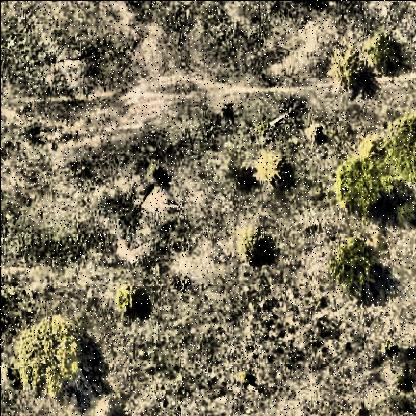tree-top: (12, 319, 90, 397), (339, 152, 389, 218), (330, 237, 376, 292), (389, 103, 416, 191), (332, 52, 368, 92), (372, 38, 406, 76), (242, 233, 278, 267), (260, 152, 294, 183), (118, 285, 153, 313)
